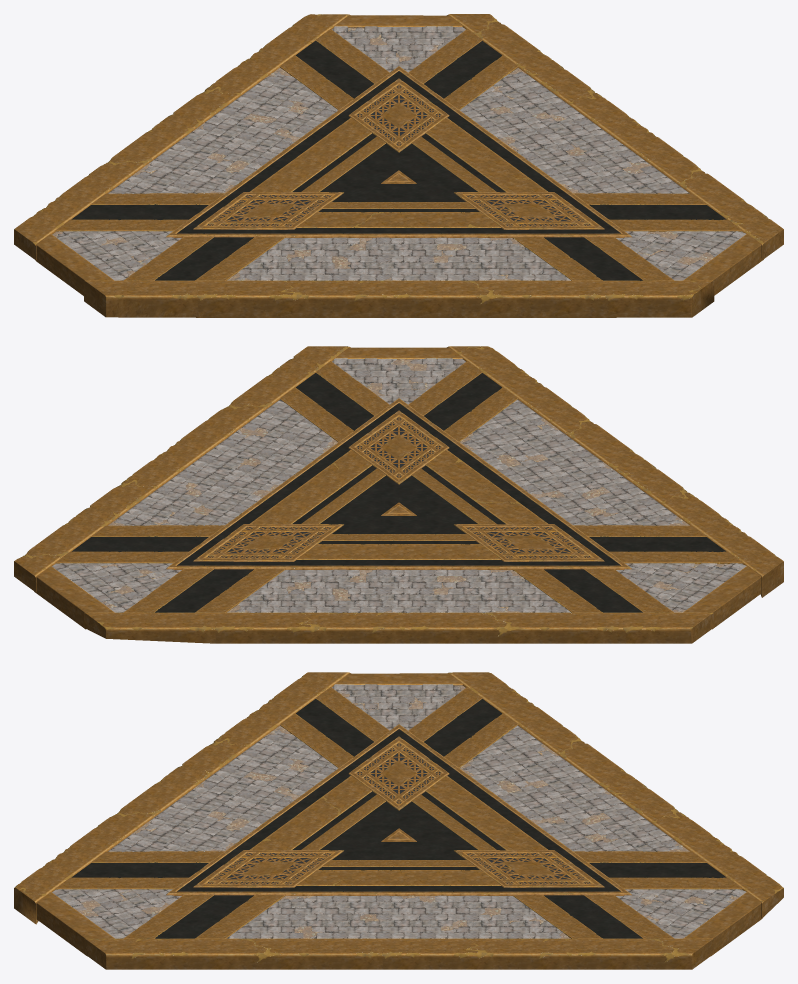
3 views of the same model, one above another, from view 1: azimuth 30°, elevation 25°; view 2: azimuth 150°, elevation 25°; view 3: azimuth 270°, elevation 25° (orthographic).
Visible parts, largest first — view 1: SM_Nightmare_Crucible_Arena_Central_Section_01v1_LOD0; view 2: SM_Nightmare_Crucible_Arena_Central_Section_01v1_LOD0; view 3: SM_Nightmare_Crucible_Arena_Central_Section_01v1_LOD0.
Boxes of the visible parts, x1,y1,x2,y2 form: SM_Nightmare_Crucible_Arena_Central_Section_01v1_LOD0: [14, 14, 783, 317]; SM_Nightmare_Crucible_Arena_Central_Section_01v1_LOD0: [14, 346, 783, 643]; SM_Nightmare_Crucible_Arena_Central_Section_01v1_LOD0: [14, 672, 783, 969].
Bounding box in the file's own units: 60.02 × 2.29 × 69.23.
Materials: 7 (6 with a texture image).
